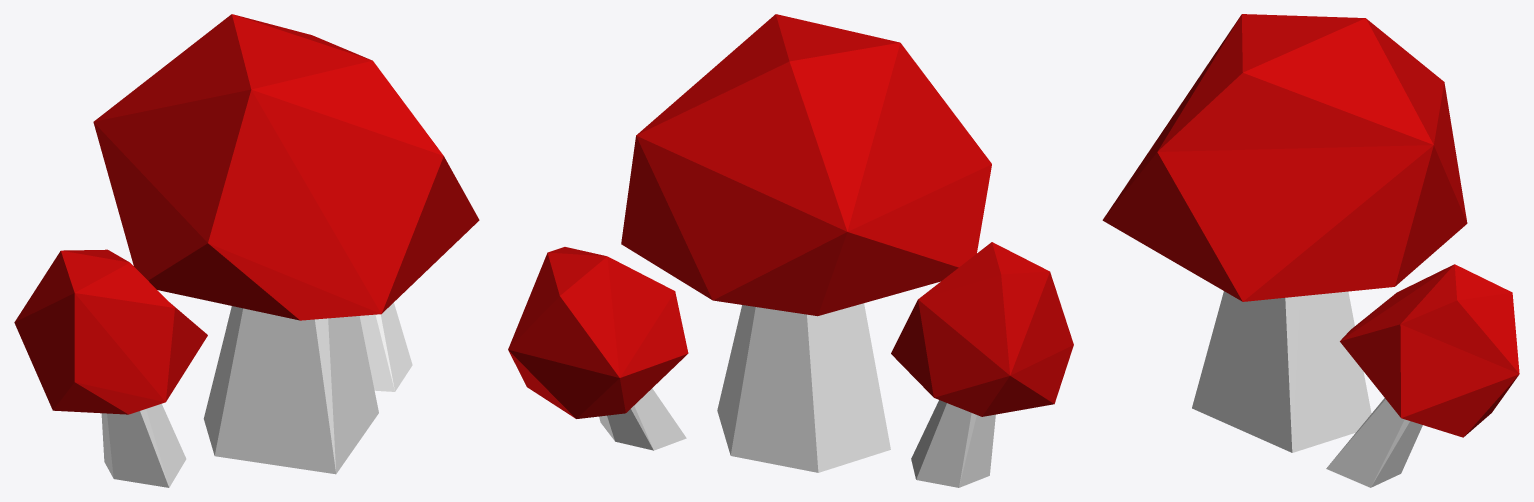
The model's file is shroom2.fbx.
The picture shows the model from 3 angles, left to right: view 1: azimuth 30°, elevation 25°; view 2: azimuth 150°, elevation 25°; view 3: azimuth 270°, elevation 25°; orthographic projection. The views are drawn at different scales.
Parts seen in each view (by area): view 1: shroom2; view 2: shroom2; view 3: shroom2.
Boxes of the visible parts, <box> form: shroom2: <box>14,14,479,487</box>; shroom2: <box>508,14,1073,487</box>; shroom2: <box>1102,14,1519,487</box>.
Size of the model in its own units: 1.32 by 1.12 by 1.1.
